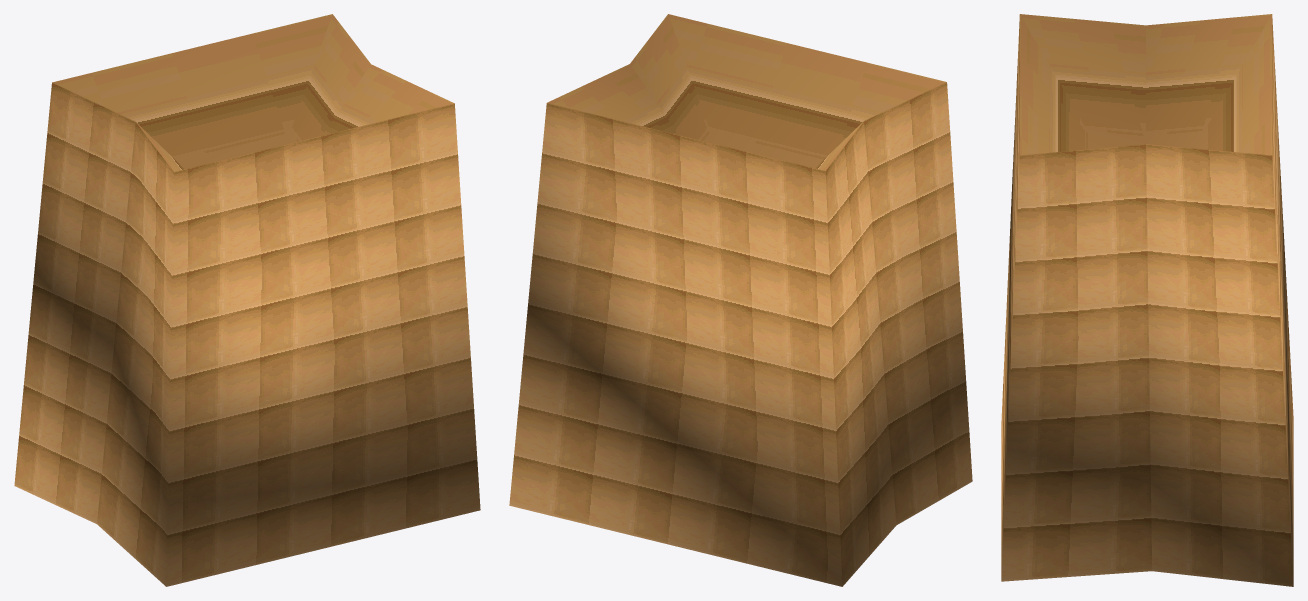
Rendered from 1122item593.gltf.
3 renders of one model, left to right at view 1: azimuth 30°, elevation 25°; view 2: azimuth 150°, elevation 25°; view 3: azimuth 270°, elevation 25°, orthographic. The views are drawn at different scales.
Parts seen in each view (by area): view 1: 1122item593; view 2: 1122item593; view 3: 1122item593.
Part boxes in pixels (bbox=[...]): 1122item593: bbox=[14, 14, 480, 586]; 1122item593: bbox=[509, 14, 972, 586]; 1122item593: bbox=[1001, 14, 1293, 586].
Bounding box in the file's own units: 0.5073 × 0.585 × 0.3708.
Materials: 1 (1 with a texture image).
